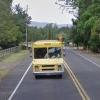Bus: (27, 36, 72, 80)
